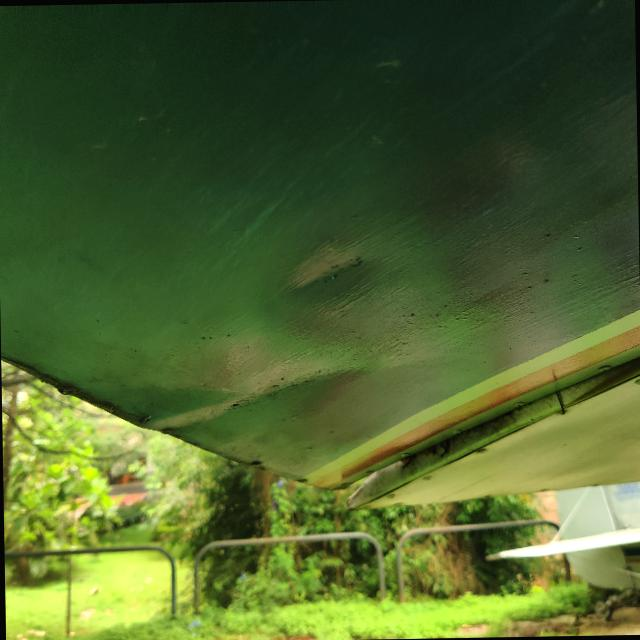dent: (111, 312, 398, 483), (266, 219, 382, 317)
